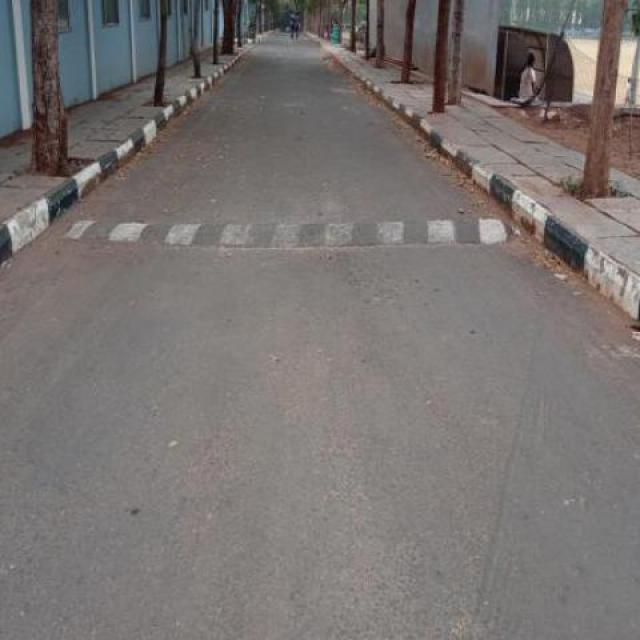Speed Bump: (62, 214, 517, 253)
